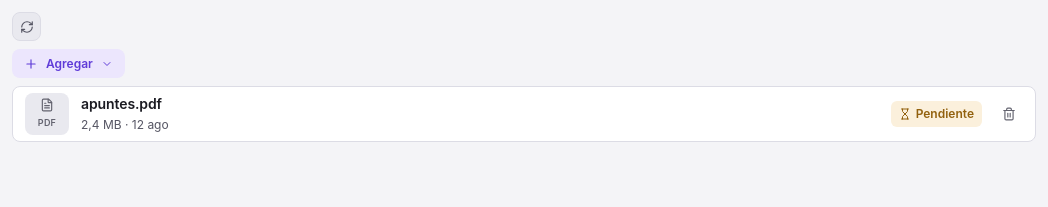
Scenario: AdjuntosContainer › shows a channel-level failure message when adjuntos:open rejects with a code other than ATTACHMENT_FILE_MISSING, and does not mark the row missing
The image size is (1048, 207).
Check: the text "apuntes.pdf" is shown, box [81,95,162,112]
Click the button named "Abrir ". click: (524, 114)
box: [13,87,1035,140]
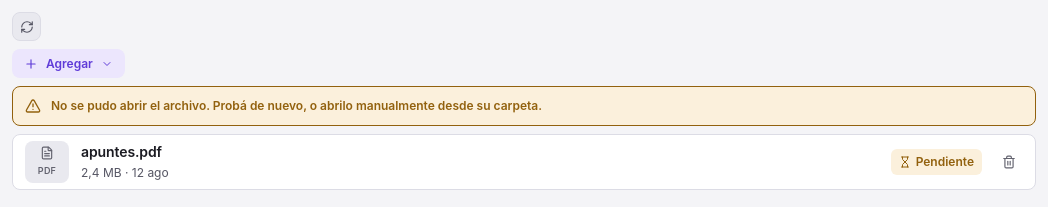
Check: the text "No se pudo abrir el archivo. Probá de nuevo, o abrilo manualmente desde su carpeta." is shown, box [51,98,542,113]
